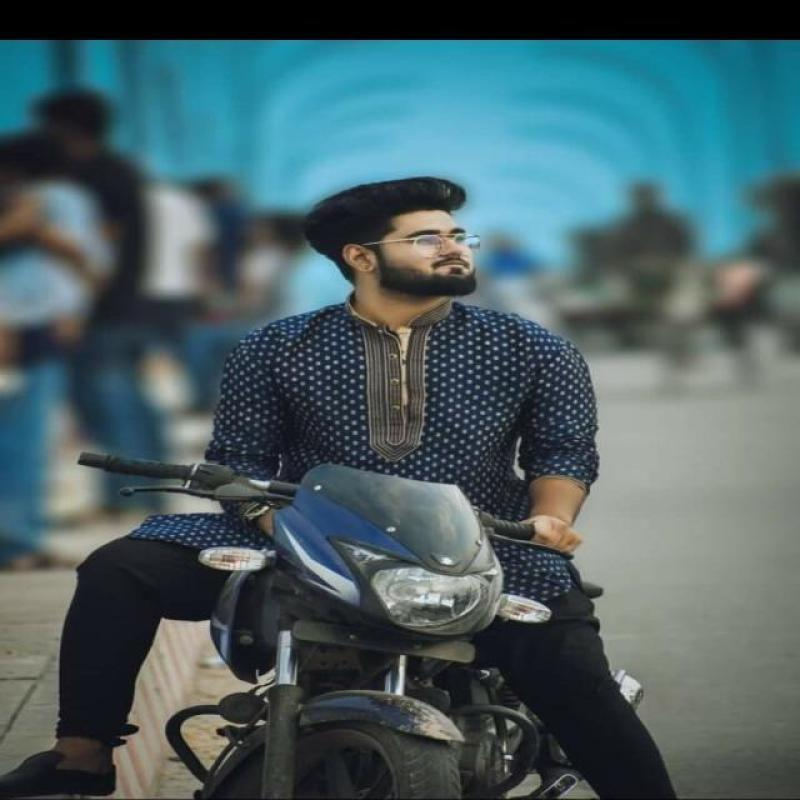nohelmet: (297, 181, 522, 309)
